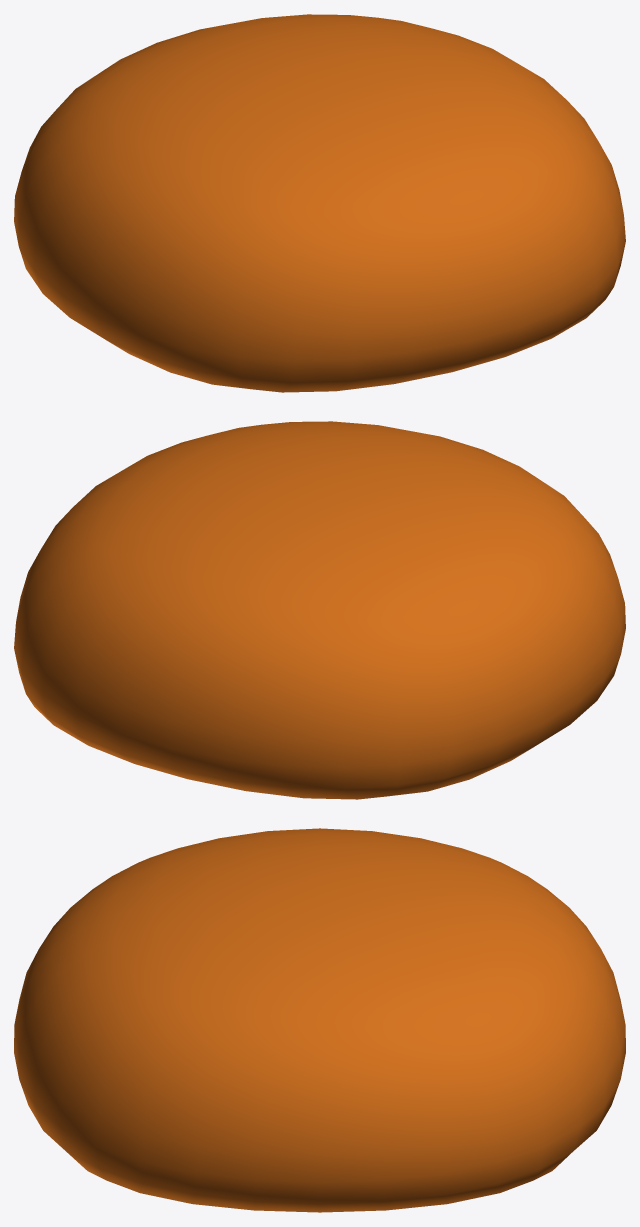
The model's file is Bread3.fbx.
The picture shows the model from 3 angles, top to bottom: view 1: azimuth 30°, elevation 25°; view 2: azimuth 150°, elevation 25°; view 3: azimuth 270°, elevation 25°; orthographic projection. The views are drawn at different scales.
Parts seen in each view (by area): view 1: Bread3; view 2: Bread3; view 3: Bread3.
Part boxes in pixels (box(x1,y1,x2,y2)): Bread3: box(14, 14, 625, 392); Bread3: box(14, 421, 625, 799); Bread3: box(14, 828, 625, 1212).
Size of the model in its own units: 1.29 by 1.29 by 0.5252.
